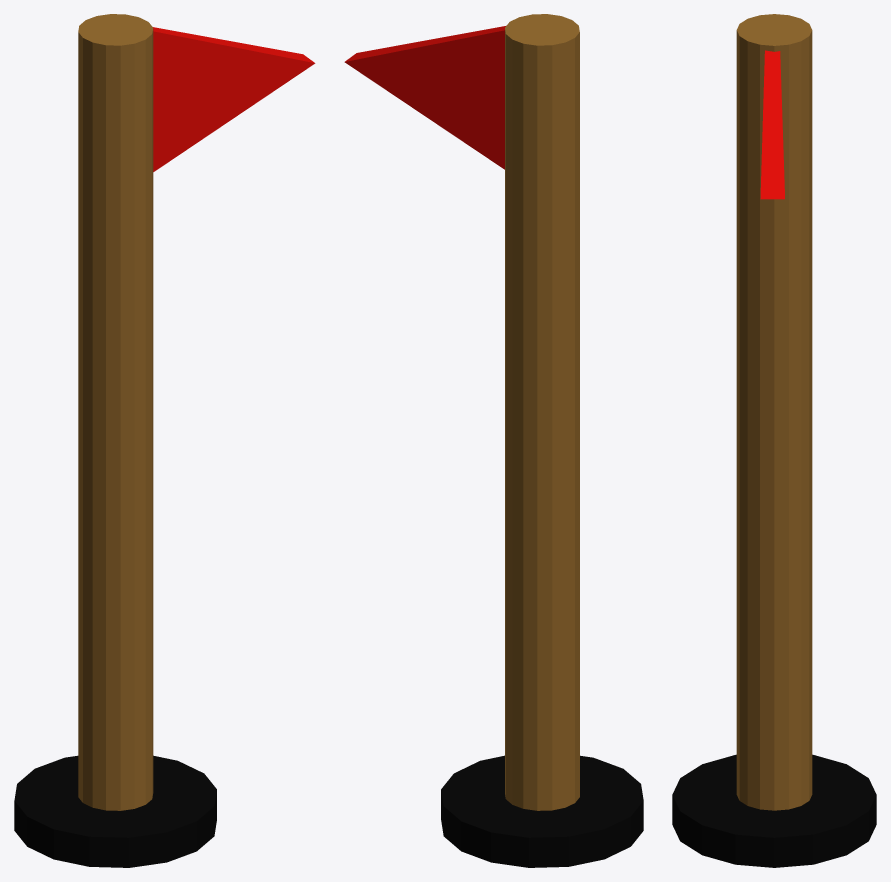
The model's file is finishflag.fbx.
3 views of the same model, side by side, from view 1: azimuth 30°, elevation 25°; view 2: azimuth 150°, elevation 25°; view 3: azimuth 270°, elevation 25° (orthographic).
Parts seen in each view (by area): view 1: Pole, Base, Flag; view 2: Pole, Base, Flag; view 3: Pole, Base, Flag.
Boxes of the visible parts, x1,y1,x2,y2 form: Pole: (78,14,153,810); Base: (14,755,216,867); Flag: (153,27,315,171); Pole: (505,14,579,810); Base: (441,755,643,867); Flag: (344,26,505,169); Pole: (736,14,812,810); Base: (672,754,876,867); Flag: (760,50,784,199).
Bounding box in the file's own units: 137 × 371 × 86.47.
